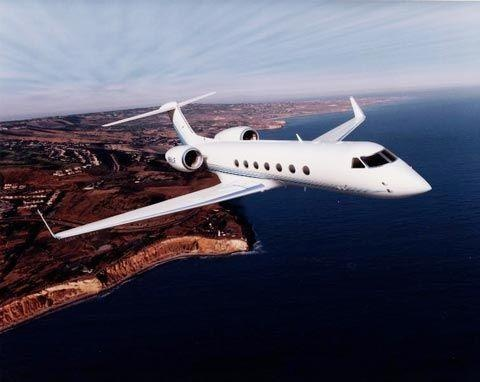airplane: (43, 92, 440, 244)
